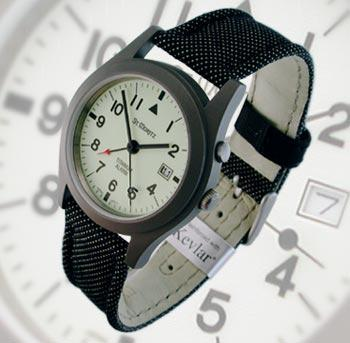watch: (50, 40, 235, 254)
